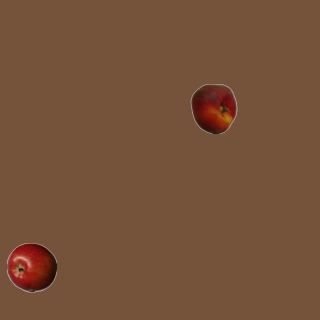Apple Braeburn: (6, 242, 56, 292)
Nectarine Flat: (188, 83, 238, 133)
